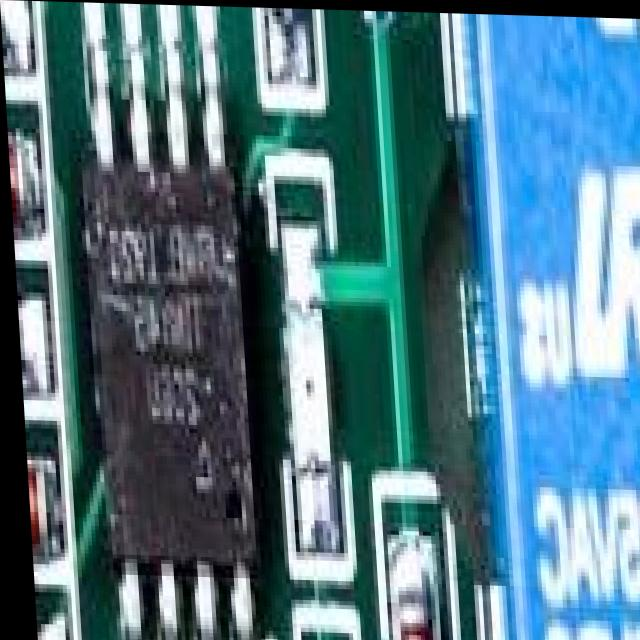IC: (69, 101, 262, 640)
LED: (273, 206, 336, 519)
diode: (377, 540, 438, 640), (20, 424, 51, 573), (6, 120, 35, 241)
relay: (448, 10, 640, 640)
resistor: (264, 6, 310, 47), (0, 0, 17, 100), (29, 612, 34, 640)
